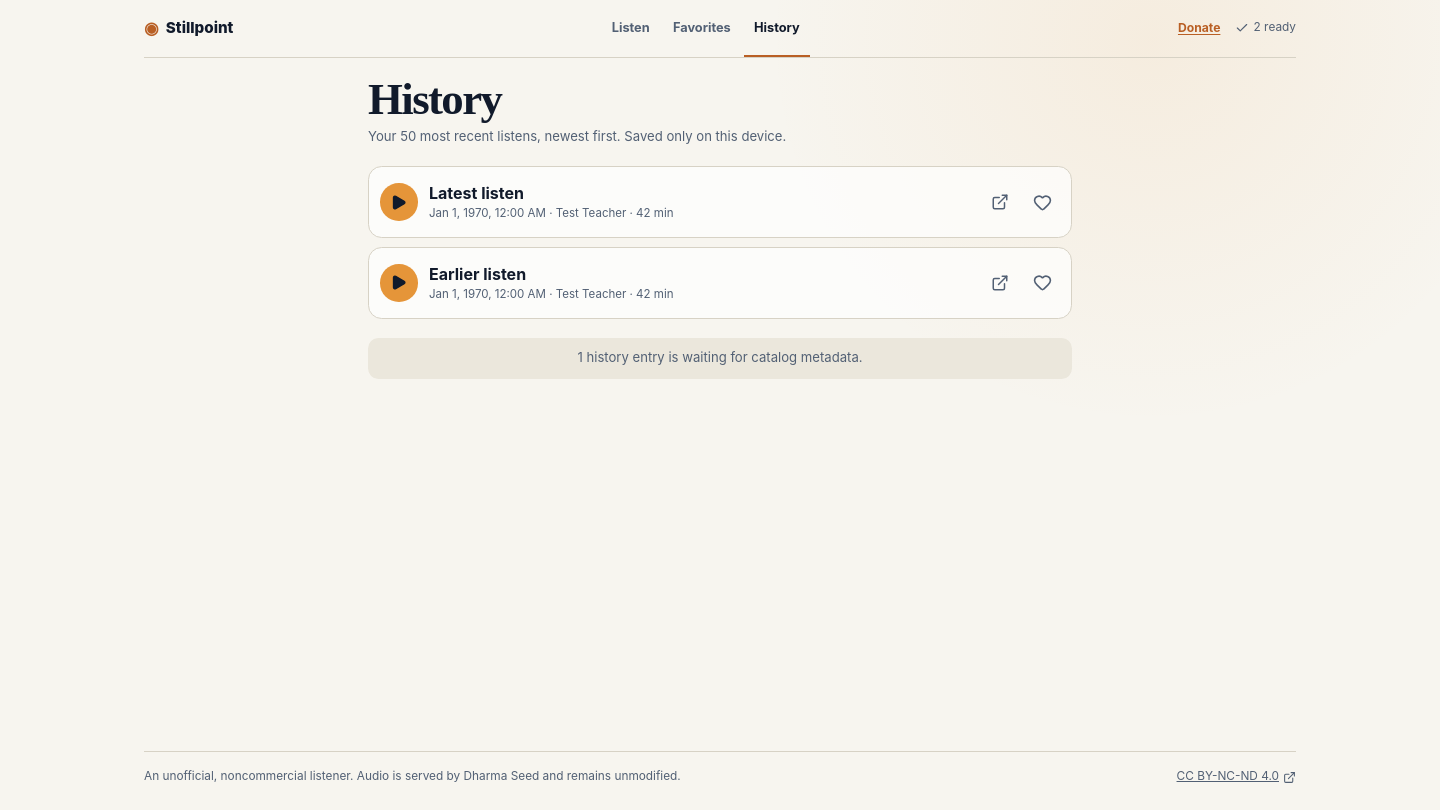
Test: shows the newest listens first and can favorite and replay them
Expected: the text "Latest listen" is shown, 429,183 -> 524,203
Expected: the text "Earlier listen" is shown, 429,264 -> 526,284
Click the button named "Add Latest listen to favorites": coordinates (1043, 202) 1021,181 -> 1064,223
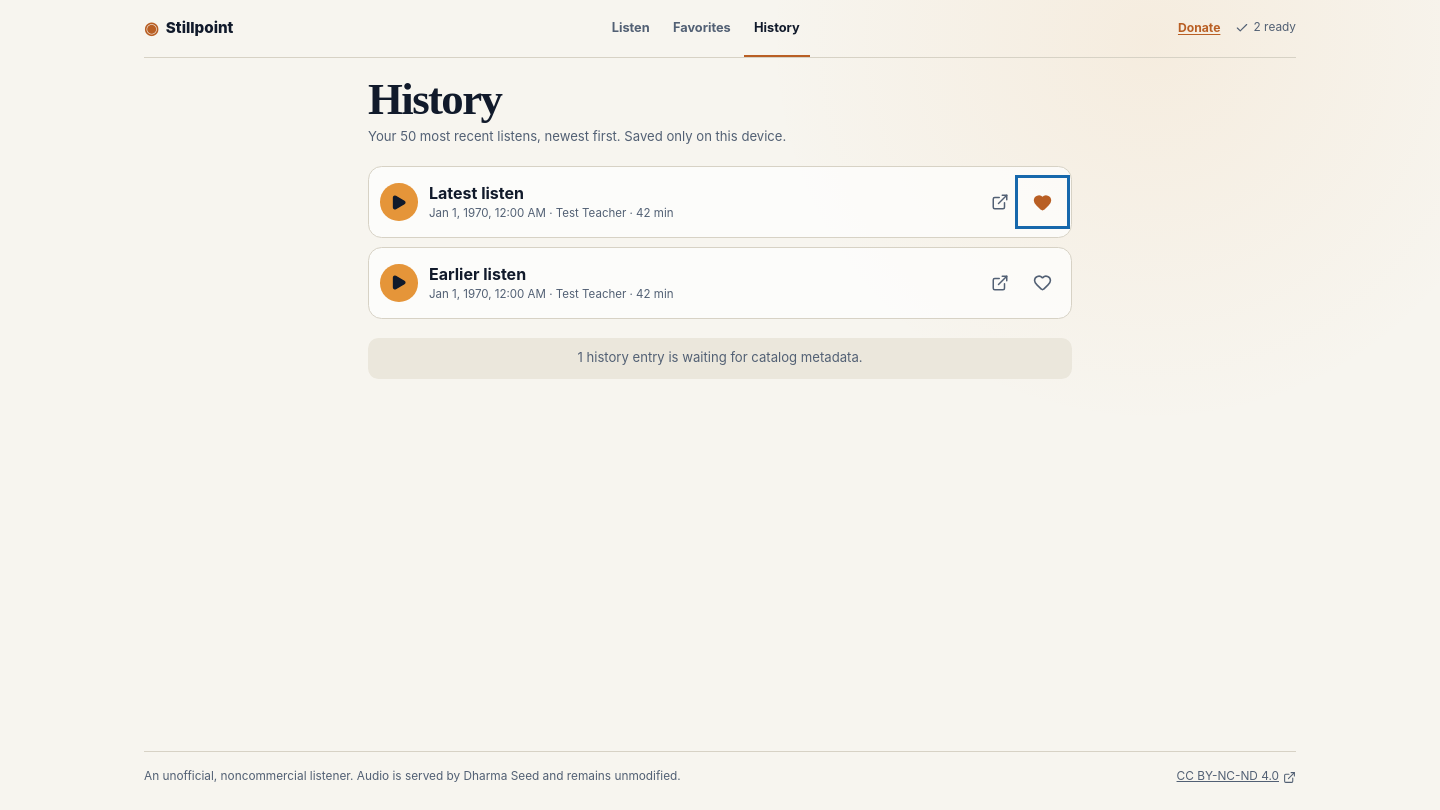
Expected: the button named "Remove Latest listen from favorites" is shown, 1021,181 -> 1064,223
Click the button with class "favorite-talk-main" that starts with "Latest listen": coordinates (399, 202) 376,177 -> 971,227
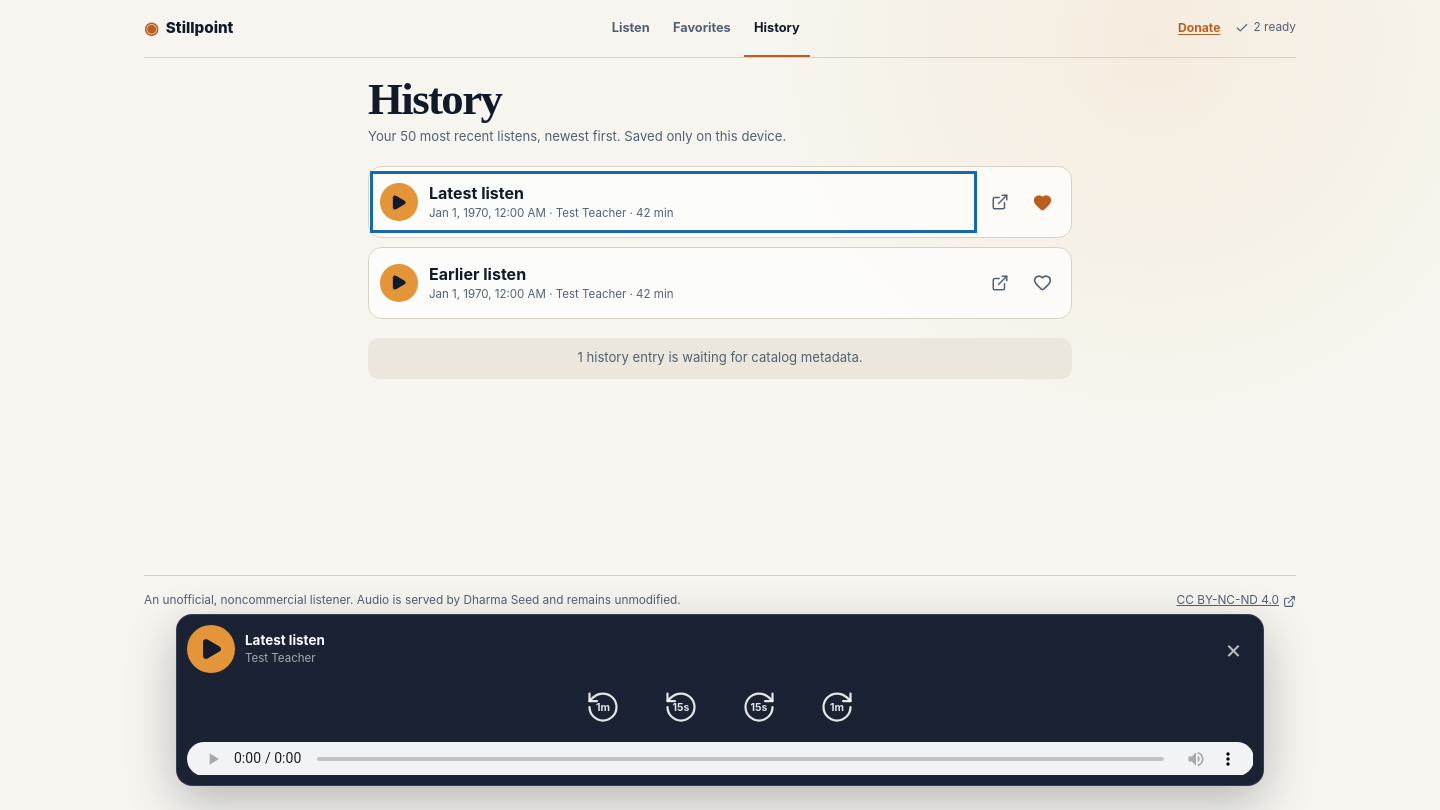
Expected: the element named "Now playing" is shown, 176,614 -> 1264,786
